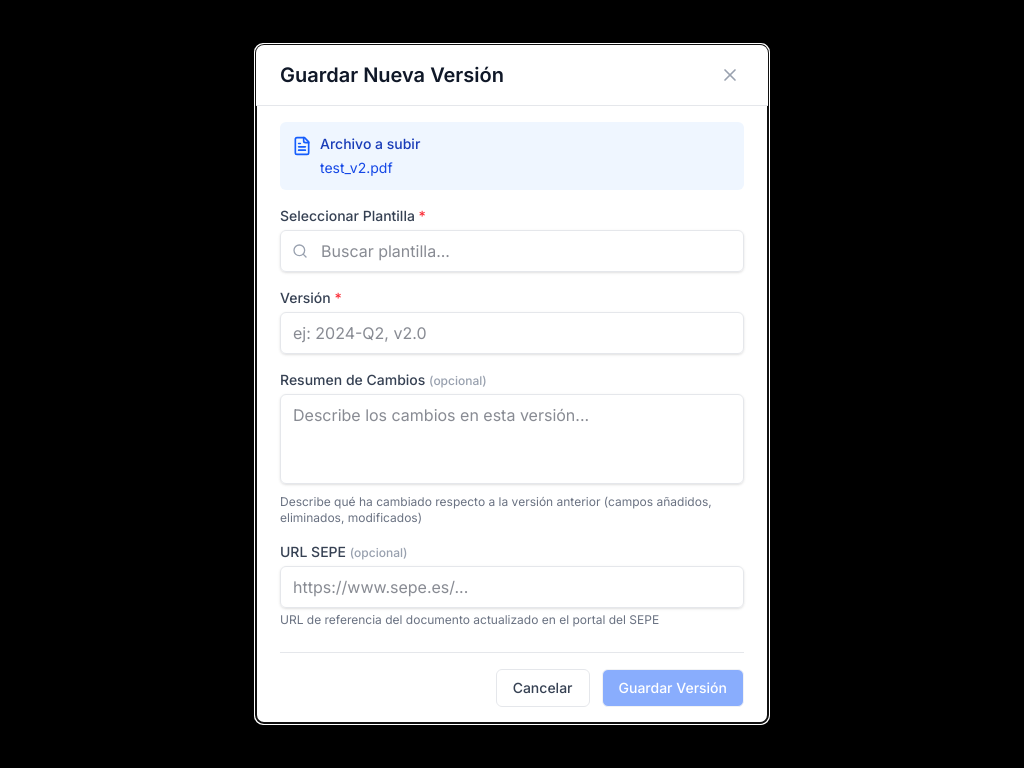
Scenario: VersionUploadModal › Template Selection › should display error when template fetch fails
Click the field with placeholder "Buscar plantilla...": (512, 251) [280, 230, 744, 272]
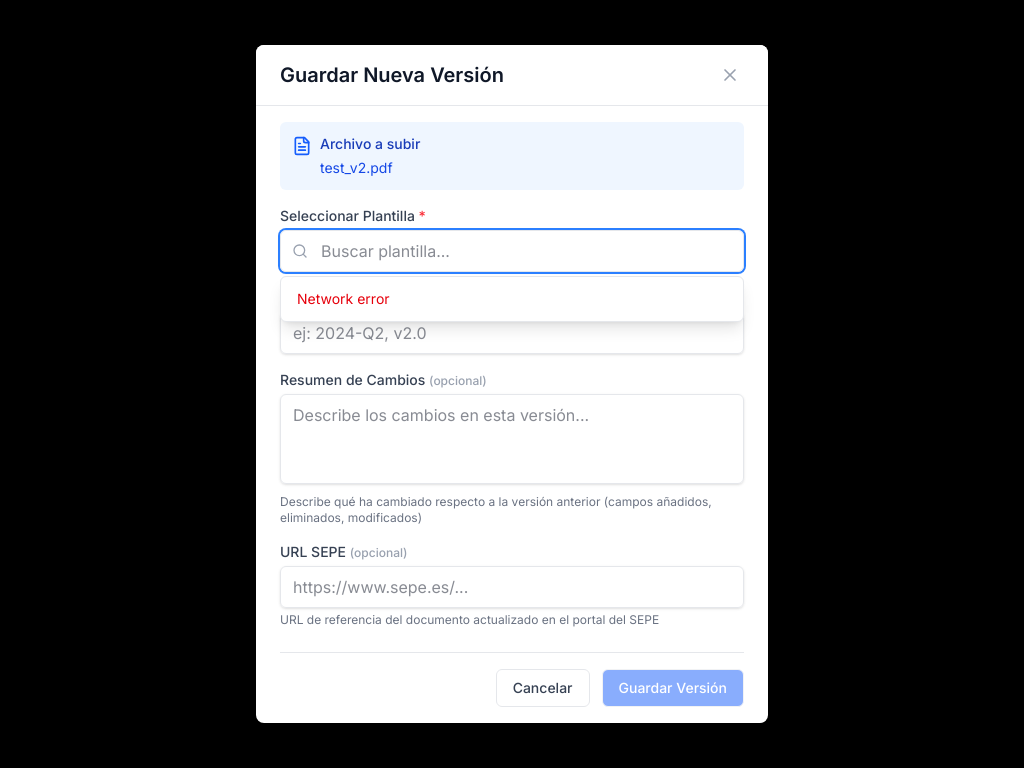
Result: the text "Network error" is shown at [297, 290, 390, 307]
